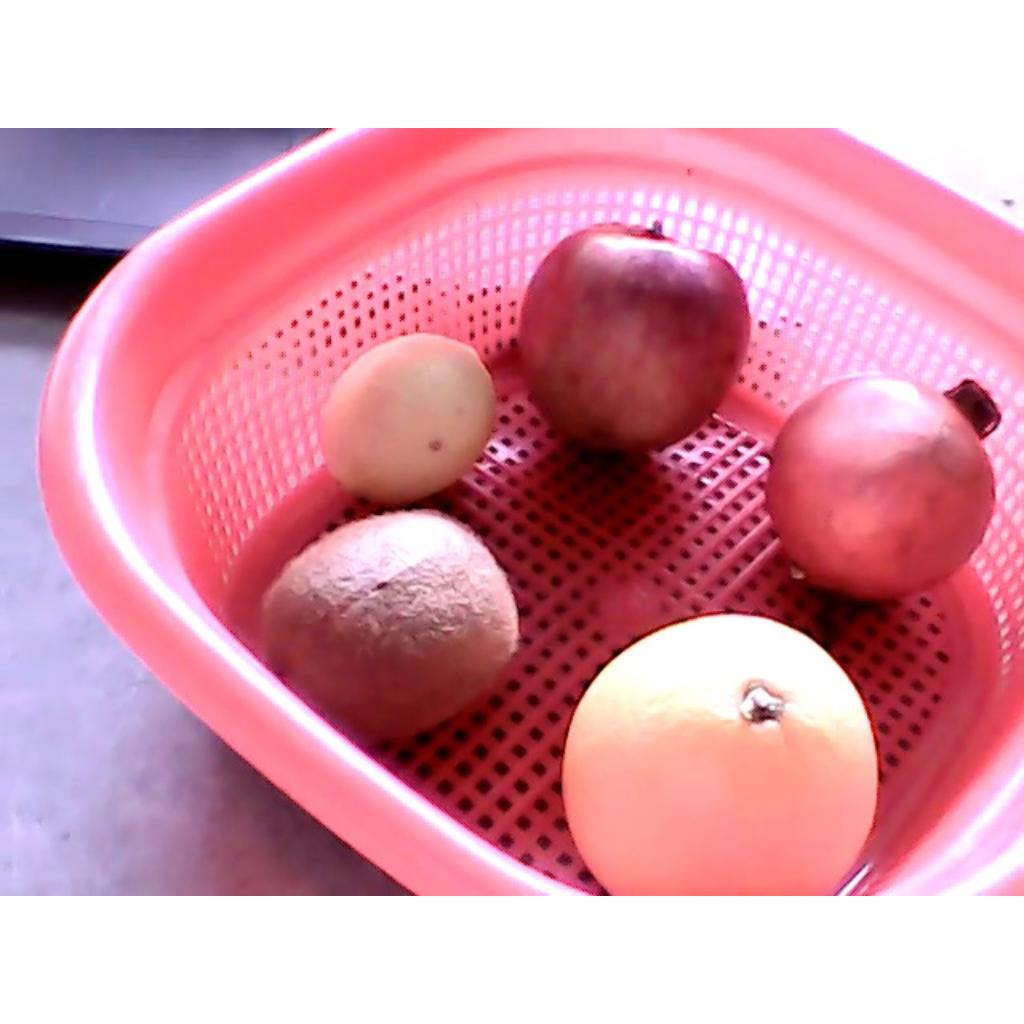apple: (516, 221, 751, 453)
kiwi: (263, 512, 520, 750)
lemon: (320, 333, 495, 508)
orange: (561, 615, 877, 894)
pomegranate: (766, 375, 1000, 603)
